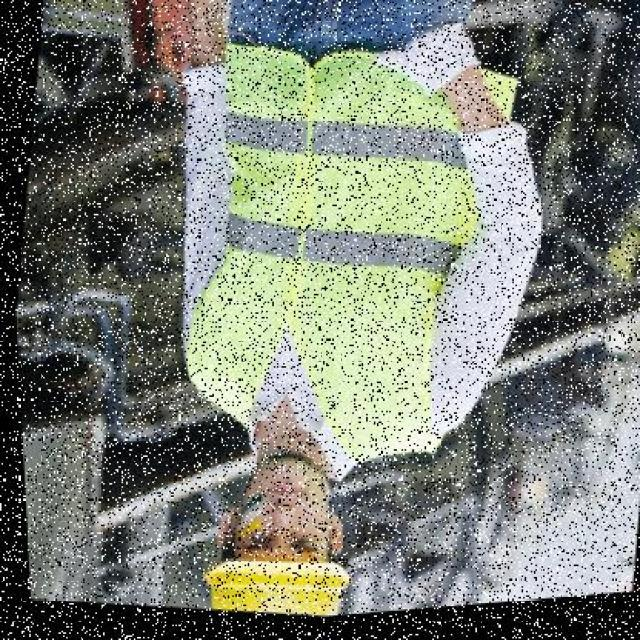helmet: (186, 534, 352, 628)
vest: (145, 22, 488, 492)
